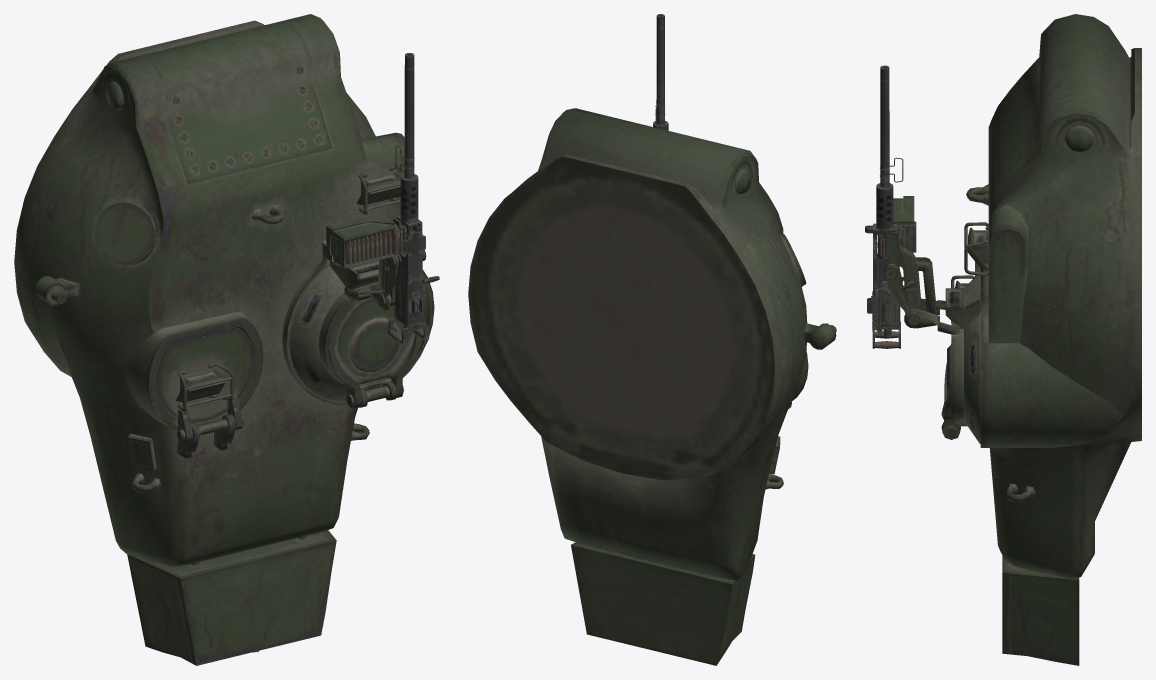
Rendered from Turret_01.glb.
The picture shows the model from 3 angles, left to right: view 1: azimuth 30°, elevation 25°; view 2: azimuth 150°, elevation 25°; view 3: azimuth 270°, elevation 25°; orthographic projection. The views are drawn at different scales.
Visible parts, largest first — view 1: set_0_group_0; view 2: set_0_group_0; view 3: set_0_group_0.
Boxes of the visible parts, left/top/right/bottom form: set_0_group_0: left=14, top=14, right=439, bottom=665; set_0_group_0: left=468, top=14, right=836, bottom=665; set_0_group_0: left=865, top=14, right=1141, bottom=665.
Bounding box in the file's own units: 2.24 × 3.63 × 1.5.
1 material, 1 textured.
